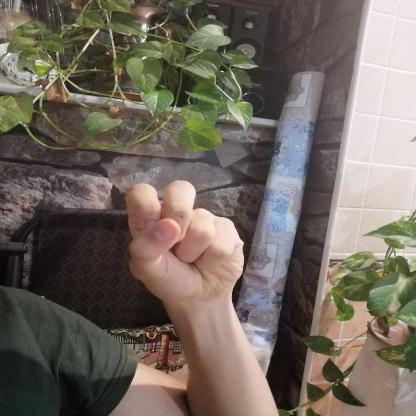QAAF: (106, 172, 262, 321)
